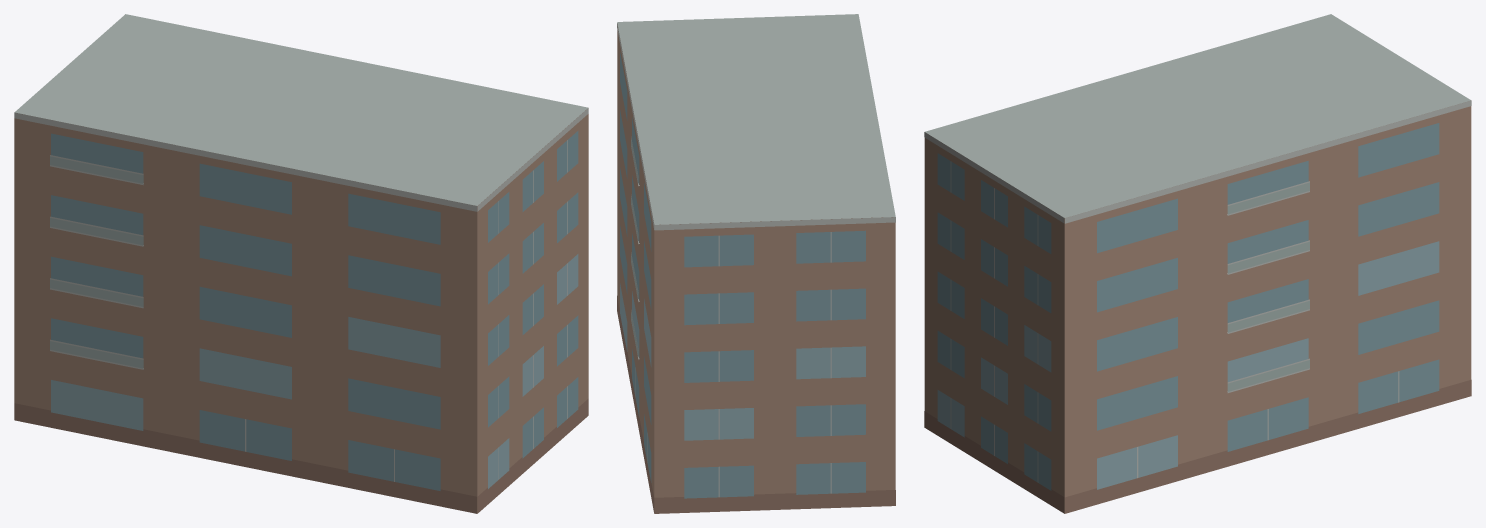
File: survey-upis-32656644.glb
3 renders of one model, left to right at view 1: azimuth 30°, elevation 25°; view 2: azimuth 150°, elevation 25°; view 3: azimuth 270°, elevation 25°, orthographic. The views are drawn at different scales.
Parts seen in each view (by area): view 1: survey-upis-32656644.tmp; view 2: survey-upis-32656644.tmp; view 3: survey-upis-32656644.tmp.
Part boxes in pixels (left/top/right/bottom): survey-upis-32656644.tmp: left=14, top=14, right=588, bottom=513; survey-upis-32656644.tmp: left=617, top=14, right=895, bottom=513; survey-upis-32656644.tmp: left=924, top=14, right=1471, bottom=513.
Size of the model in its own units: 18.92 by 12.77 by 21.41.
